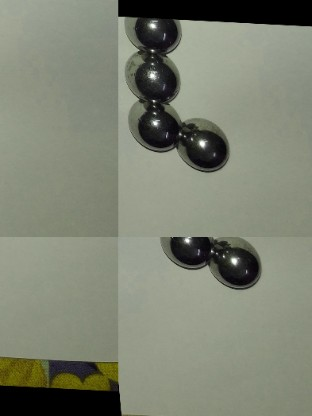ironball: (127, 103, 186, 158), (210, 234, 264, 293), (181, 113, 230, 178), (124, 51, 185, 103), (127, 12, 185, 56)
